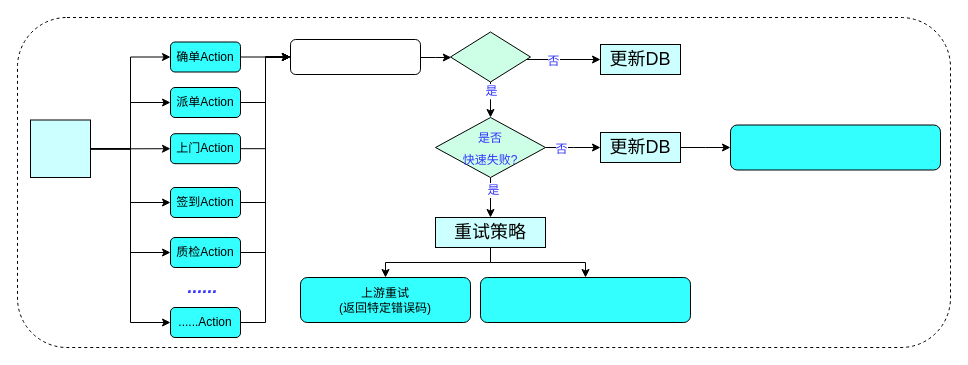
The diagram is 968 pixels wide and 365 high, and some of its shapes have lost their labels. The centre of each missing label's shape, as x and y in pixels:
Action: the point at 60,148
MQ补偿 (先发送补偿消息, 订阅消息补偿): the point at 835,147
MQ重试 (先发送重试消息, 订阅消息重试): the point at 585,299
是否超时?: the point at 490,56
调用外部RPC接口: the point at 355,56
